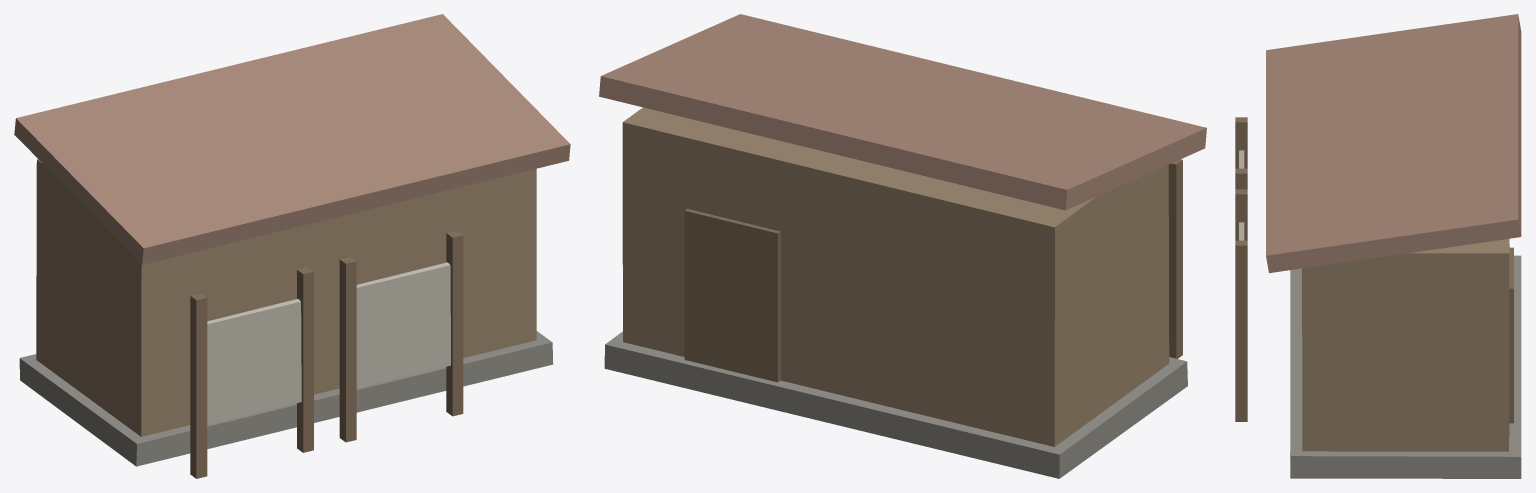
File: tannery.glb
3 views of the same model, side by side, from view 1: azimuth 30°, elevation 25°; view 2: azimuth 150°, elevation 25°; view 3: azimuth 270°, elevation 25° (orthographic). The views are drawn at different scales.
Visible parts, largest first — view 1: tannery; view 2: tannery; view 3: tannery.
Part boxes in pixels (x1,y1,x2,y2): tannery: (14,14,570,478); tannery: (599,14,1206,478); tannery: (1235,14,1521,478).
Size of the model in its own units: 4 by 2.38 by 2.35.
